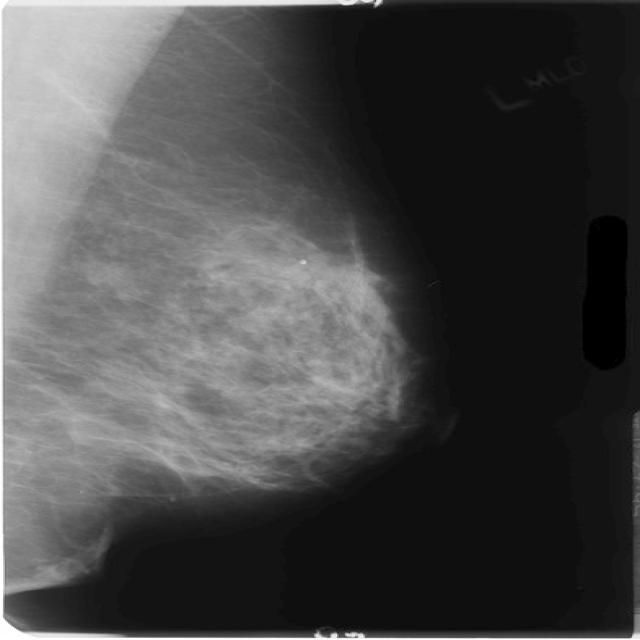tumour: (334, 267, 396, 334)
